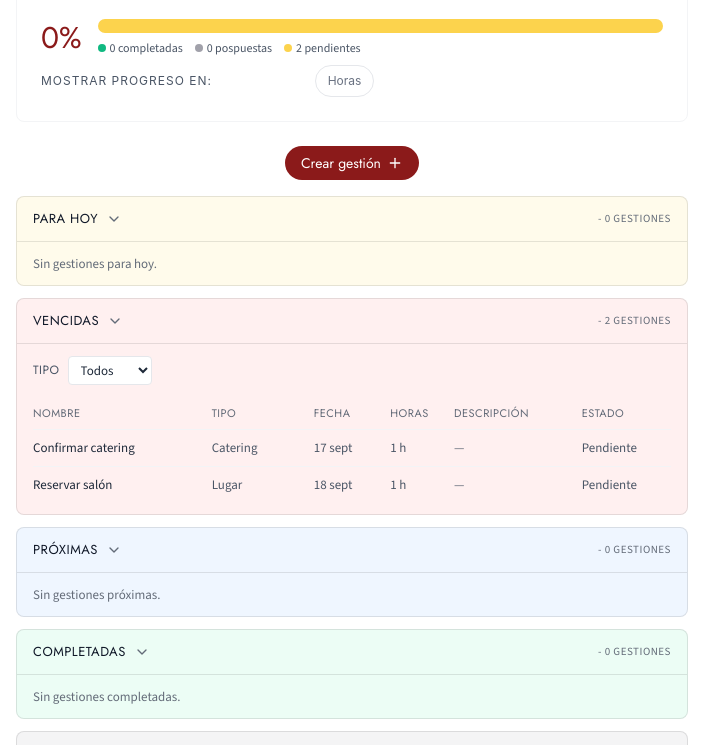
EventDetailView › el filtro por tipo de cada tabla solo muestra las gestiones de la categoría elegida
(page scrolled)
Check: the text "- 2 GESTIONES" is shown, box [598, 313, 671, 329]
Check: the text "Reservar salón" is shown, box [33, 466, 212, 502]
Select "Catering" in the dropdown labelled "Tipo". click: (110, 370)
box: [68, 356, 152, 385]
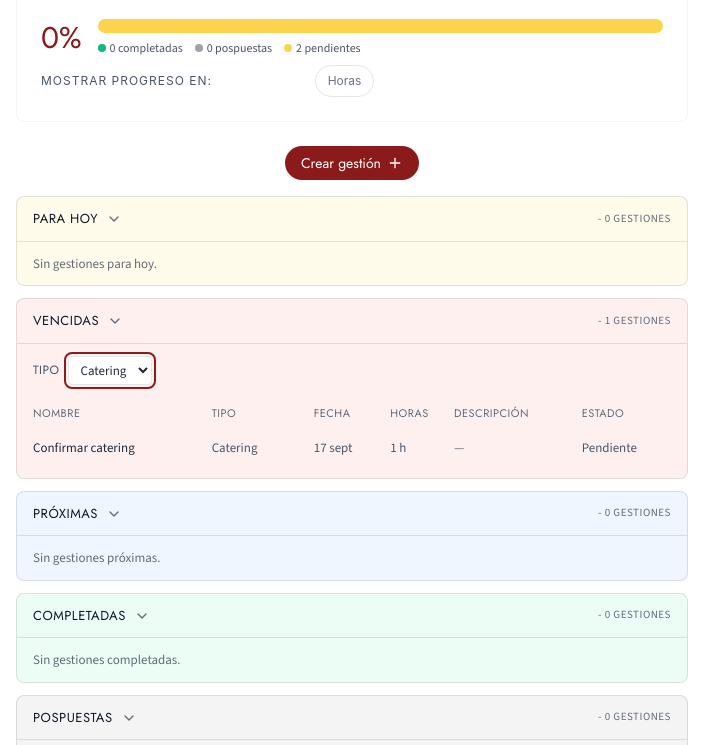
Check: the text "Confirmar catering" is shown, box [33, 430, 212, 466]
Check: the text "- 1 GESTIONES" is shown, box [598, 313, 671, 329]
Check: the text "Reservar salón" is gone
